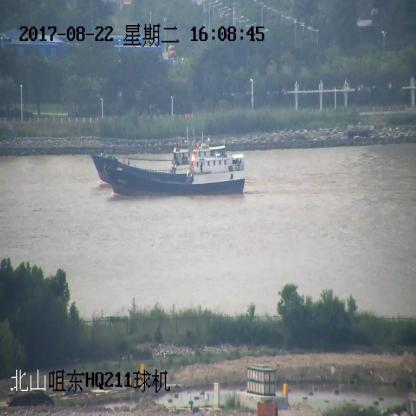Fishing Boat: (92, 113, 224, 186), (106, 146, 244, 196)
